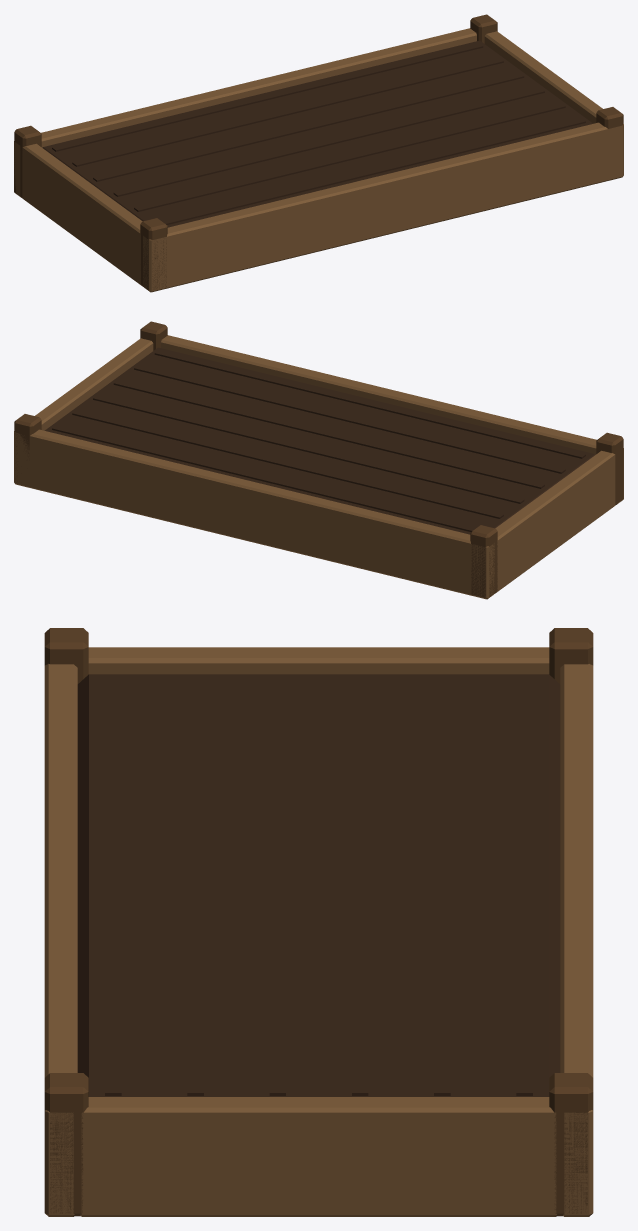
File: Prop_Bee_FlowerBed.glb
3 views of the same model, one above another, from view 1: azimuth 30°, elevation 25°; view 2: azimuth 150°, elevation 25°; view 3: azimuth 270°, elevation 25° (orthographic). The views are drawn at different scales.
Parts seen in each view (by area): view 1: Prop_Bee_FlowerBed; view 2: Prop_Bee_FlowerBed; view 3: Prop_Bee_FlowerBed.
Part boxes in pixels (x1=…): Prop_Bee_FlowerBed: x1=14, y1=14, x2=623, y2=292; Prop_Bee_FlowerBed: x1=14, y1=321, x2=623, y2=599; Prop_Bee_FlowerBed: x1=44, y1=628, x2=593, y2=1216.
Size of what is drawn, in the model's own units: 2 by 0.26 by 1.
